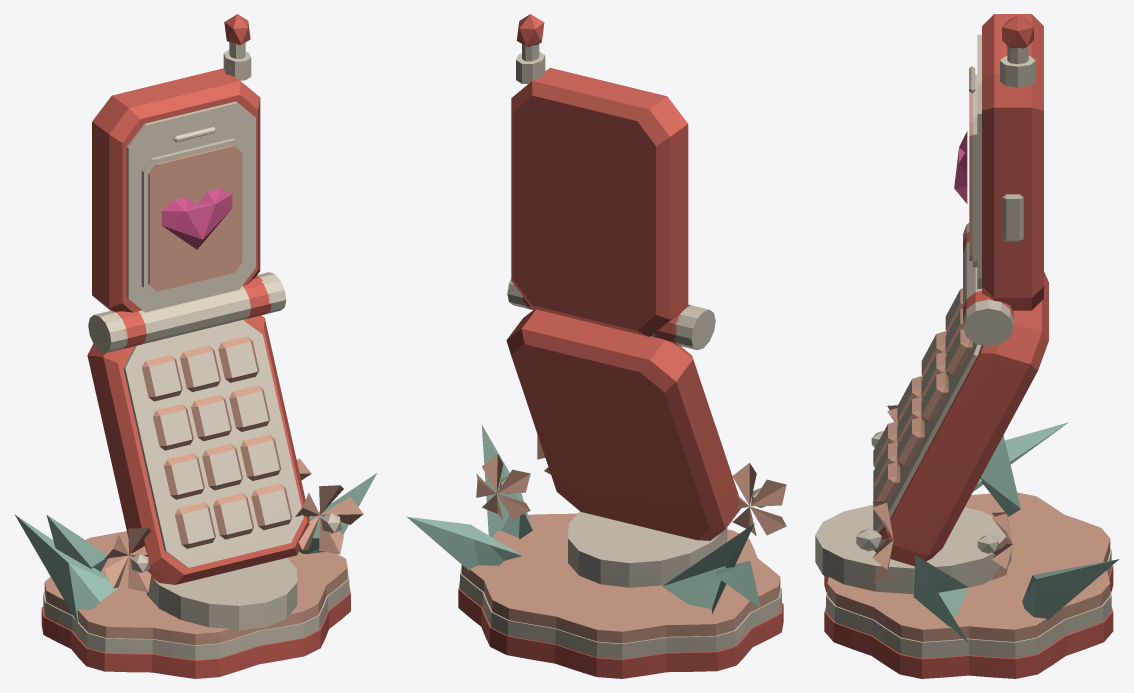
Rendered from flip-phone.glb.
The picture shows the model from 3 angles, left to right: view 1: azimuth 30°, elevation 25°; view 2: azimuth 150°, elevation 25°; view 3: azimuth 270°, elevation 25°; orthographic projection. The views are drawn at different scales.
Visible parts, largest first — view 1: root_mesh, lid0_mesh, tower0_mesh; view 2: root_mesh, lid0_mesh, tower0_mesh; view 3: root_mesh, lid0_mesh, tower0_mesh.
Boxes of the visible parts, box(x1,y1,x2,y2) form: root_mesh: box(14, 272, 376, 678); lid0_mesh: box(92, 68, 260, 312); tower0_mesh: box(223, 14, 251, 80); root_mesh: box(406, 279, 786, 678); lid0_mesh: box(511, 67, 688, 336); tower0_mesh: box(516, 14, 545, 83); root_mesh: box(815, 223, 1119, 678); lid0_mesh: box(954, 14, 1043, 310); tower0_mesh: box(1000, 15, 1035, 87).
Size of the model in its own units: 2.7 by 5 by 2.2.
